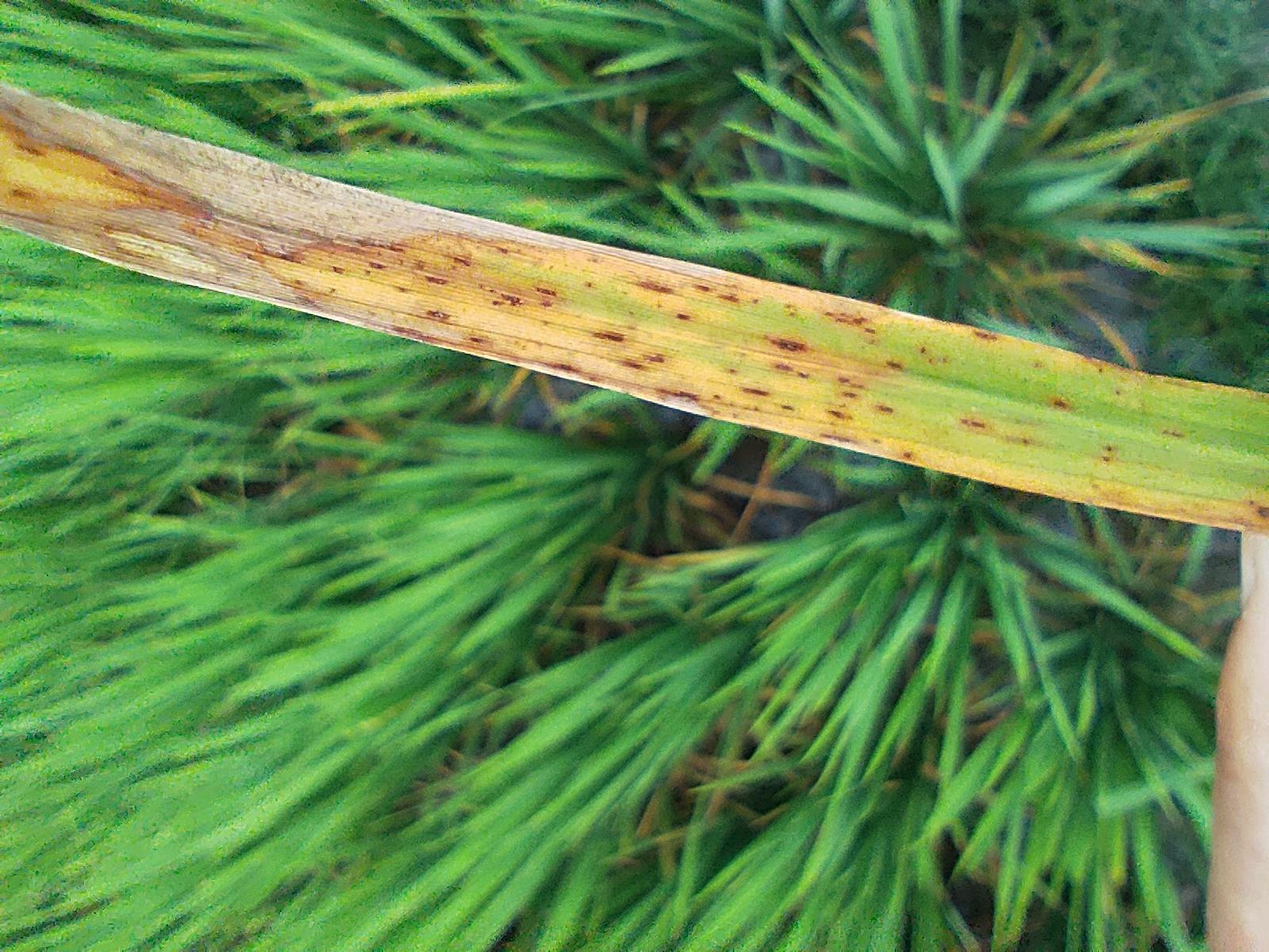NBS: (812, 294, 837, 326), (1057, 10, 1082, 35), (799, 574, 819, 605), (877, 477, 895, 505), (698, 717, 713, 741), (812, 444, 826, 469), (772, 414, 785, 435), (861, 376, 877, 392), (889, 318, 902, 337), (680, 615, 691, 637), (1004, 8, 1019, 24), (740, 557, 752, 576), (776, 464, 788, 483), (710, 620, 722, 638), (843, 320, 855, 337), (913, 340, 927, 354), (873, 402, 885, 418), (810, 352, 821, 369), (815, 730, 825, 748), (774, 580, 785, 596), (686, 872, 696, 888), (785, 483, 795, 498), (865, 541, 876, 554), (834, 639, 846, 650), (723, 790, 736, 800), (880, 520, 890, 532), (778, 664, 787, 677), (910, 277, 919, 290), (842, 505, 851, 518), (721, 585, 730, 597), (929, 371, 941, 380), (720, 657, 728, 670), (764, 597, 773, 608), (739, 630, 746, 644), (860, 369, 868, 379), (824, 648, 832, 657), (758, 628, 765, 637), (751, 638, 756, 648)
